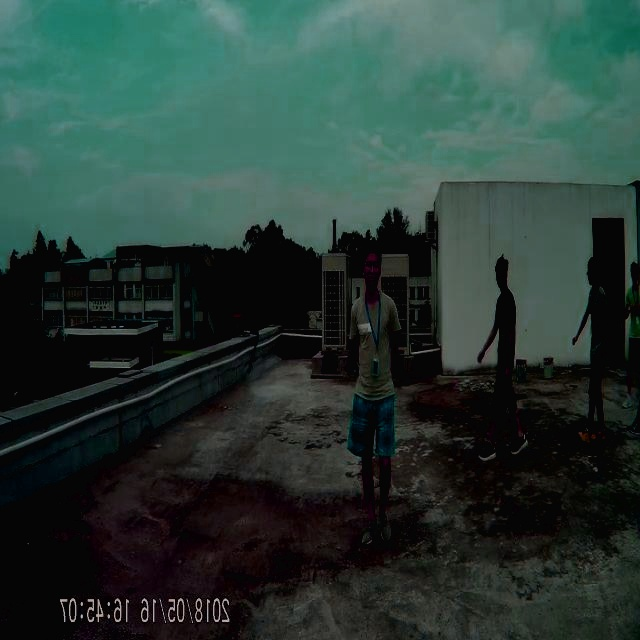Sin_Chaleco: (349, 294, 400, 399)
